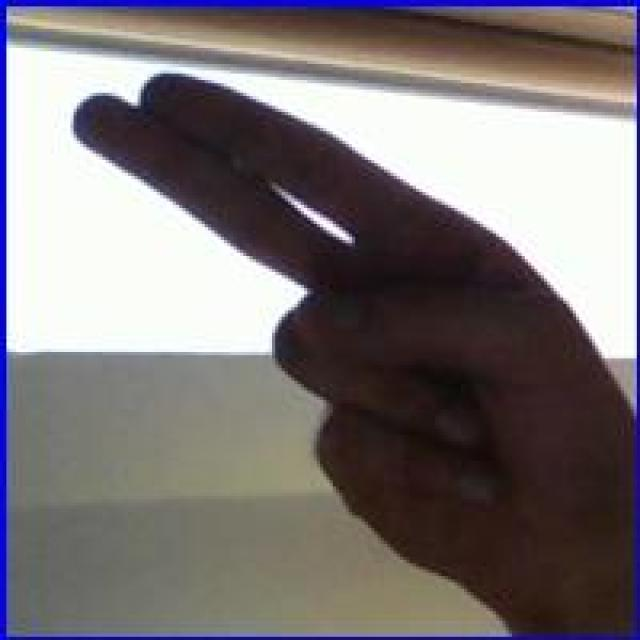H: (67, 65, 621, 612)
